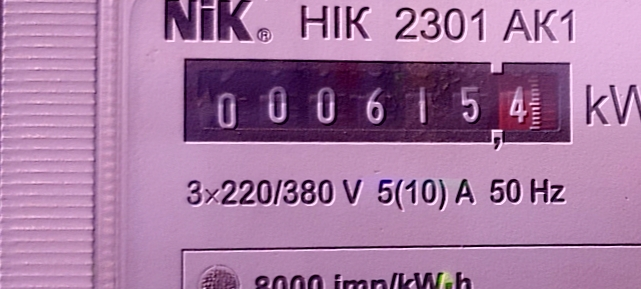0: (312, 82, 338, 125), (212, 87, 239, 128), (264, 81, 288, 122)
1: (414, 82, 429, 123)
4: (506, 81, 527, 122)
5: (457, 80, 481, 123)
6: (361, 82, 386, 124)
screen: (167, 37, 585, 163)
